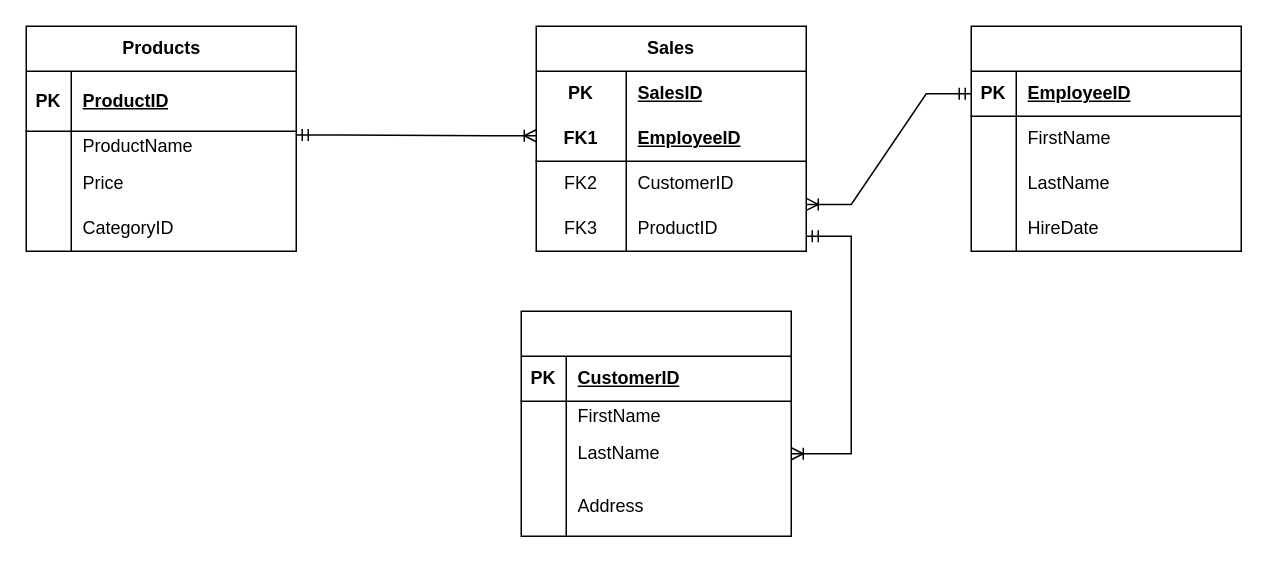
The diagram is 1268 pixels wide and 563 high, and some of its shapes have lost their labels. The shapes that lost their labels are listed below. From the top down, each one's box as (x1, y1, x2, y2) in pixels, then its label:
(970, 25, 1241, 251): Employees
(520, 310, 791, 536): Customers
